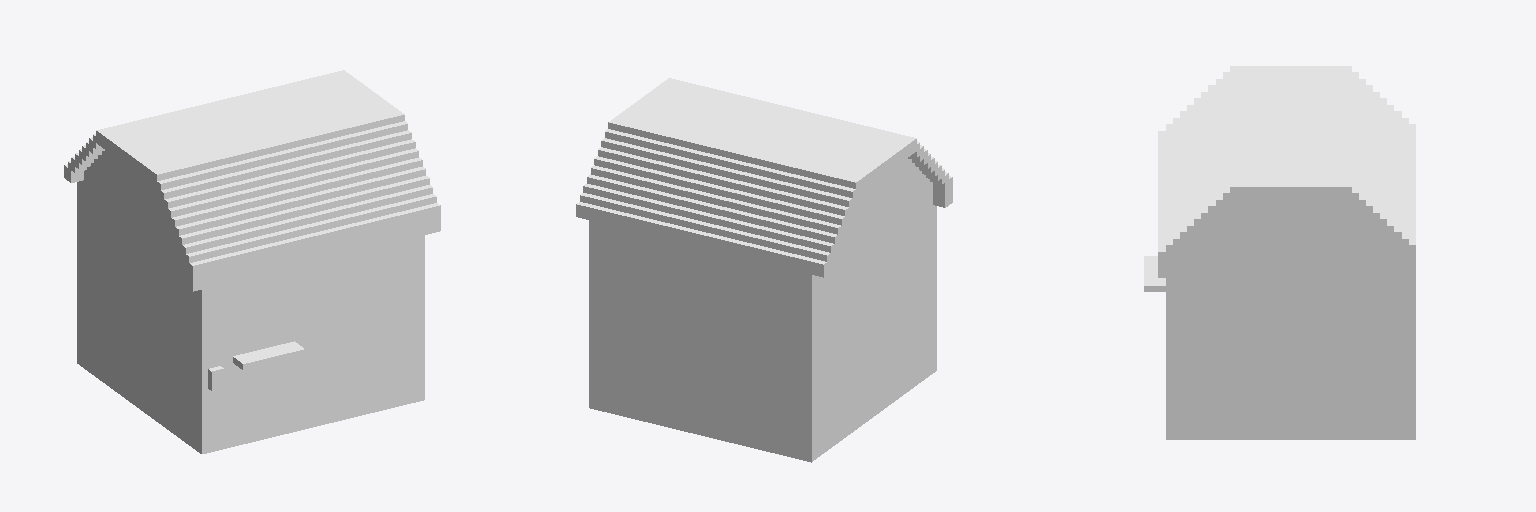
Rendered from shop.obj.
The picture shows the model from 3 angles: view 1: azimuth 30°, elevation 25°; view 2: azimuth 150°, elevation 25°; view 3: azimuth 270°, elevation 25°; orthographic projection.
Parts seen in each view (by area): view 1: object 1; view 2: object 1; view 3: object 1.
Boxes of the visible parts, <box> form: object 1: <box>64,70,440,453</box>; object 1: <box>576,78,952,462</box>; object 1: <box>1144,66,1415,439</box>.
Bounding box in the file's own units: 4 × 4 × 3.8.